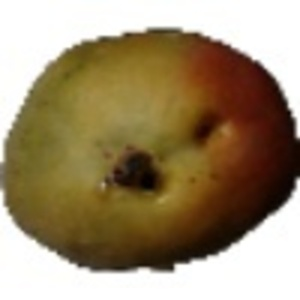mamão: (5, 18, 297, 284)
